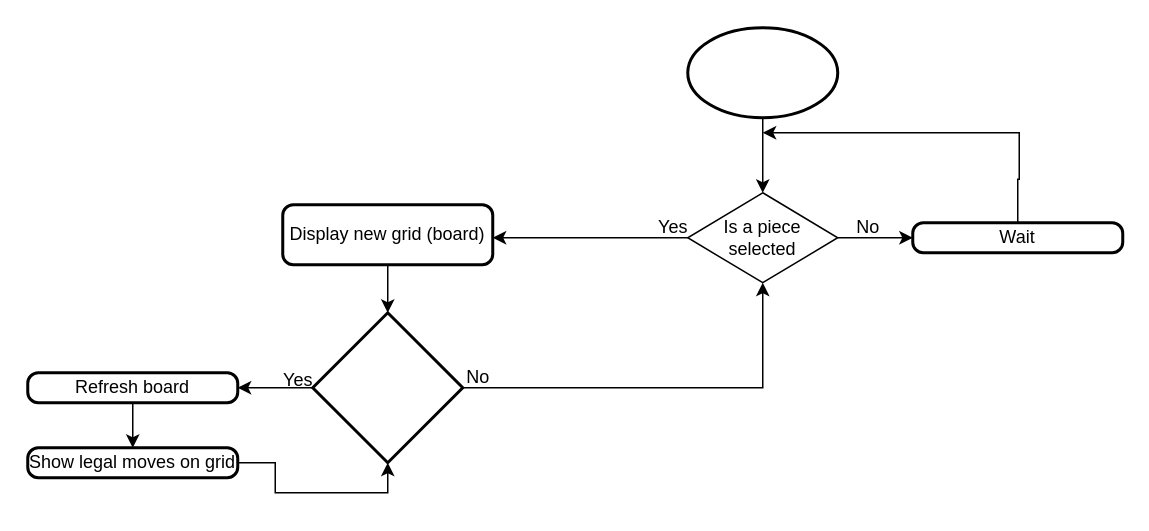
This 1149x531 diagram has some shape labels left out. Each missing label, with the centre of its shape:
Is a square selected?: point 387,387
Start: point 762,72
